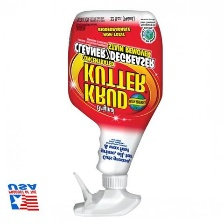cleaning_solution: (62, 7, 165, 219)
